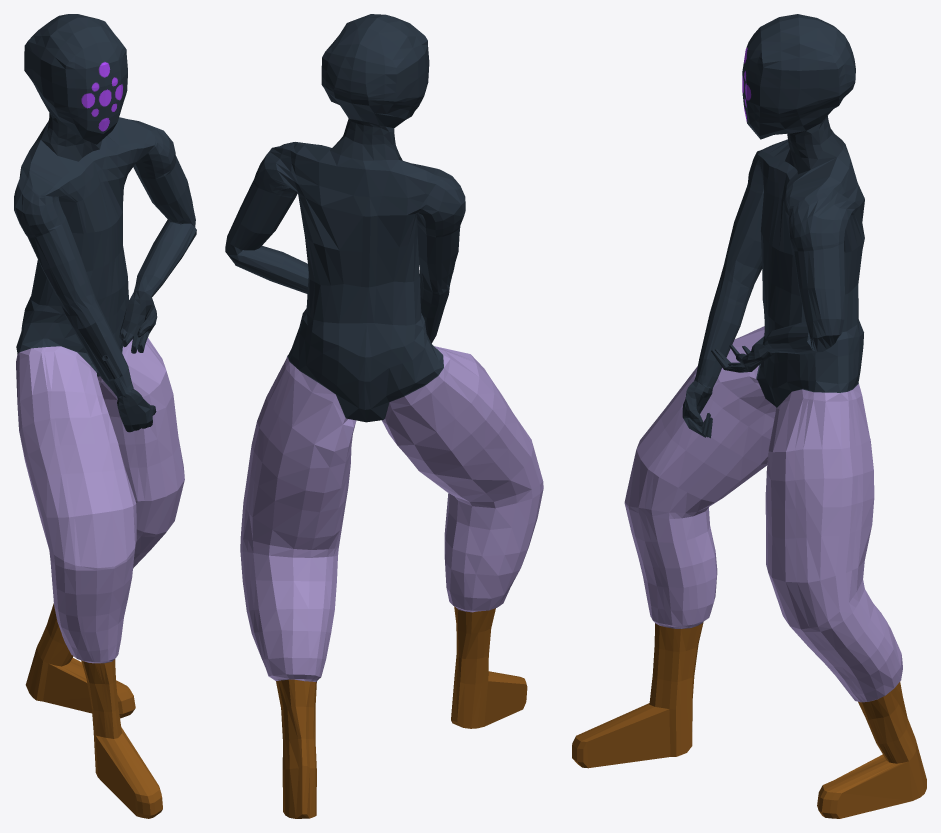
The model's file is Oracle_WF_000010.obj.
The picture shows the model from 3 angles, left to right: view 1: azimuth 30°, elevation 25°; view 2: azimuth 150°, elevation 25°; view 3: azimuth 270°, elevation 25°; orthographic projection. The views are drawn at different scales.
Parts seen in each view (by area): view 1: Cube; view 2: Cube; view 3: Cube.
Boxes of the visible parts, left/top/right/bottom form: Cube: left=14, top=14, right=196, bottom=818; Cube: left=225, top=14, right=543, bottom=818; Cube: left=572, top=14, right=926, bottom=818.
Size of the model in its own units: 1.19 by 3.78 by 1.59.
